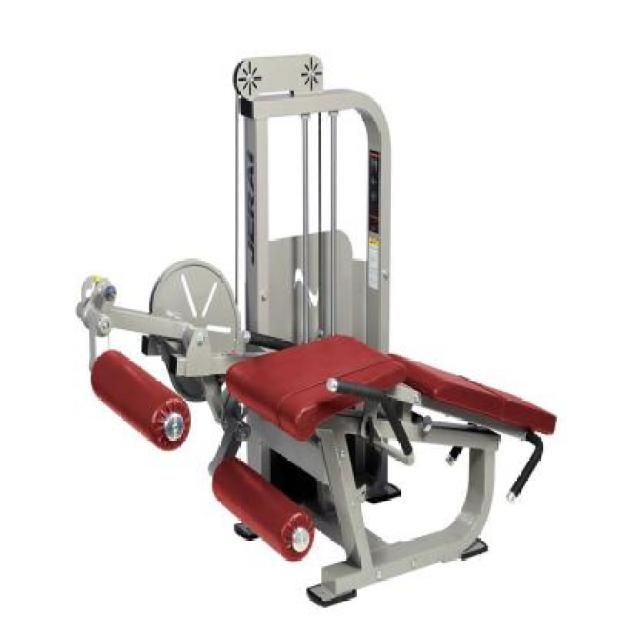reg curl machine: (74, 49, 560, 611)
